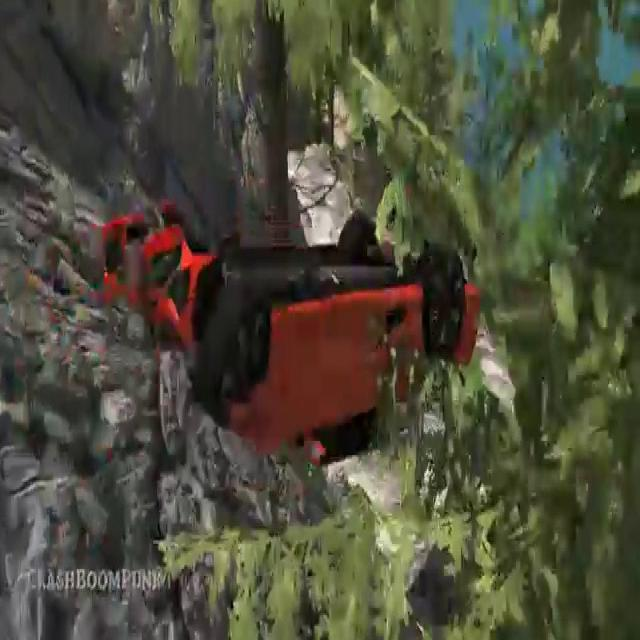severe: (158, 200, 489, 472)
